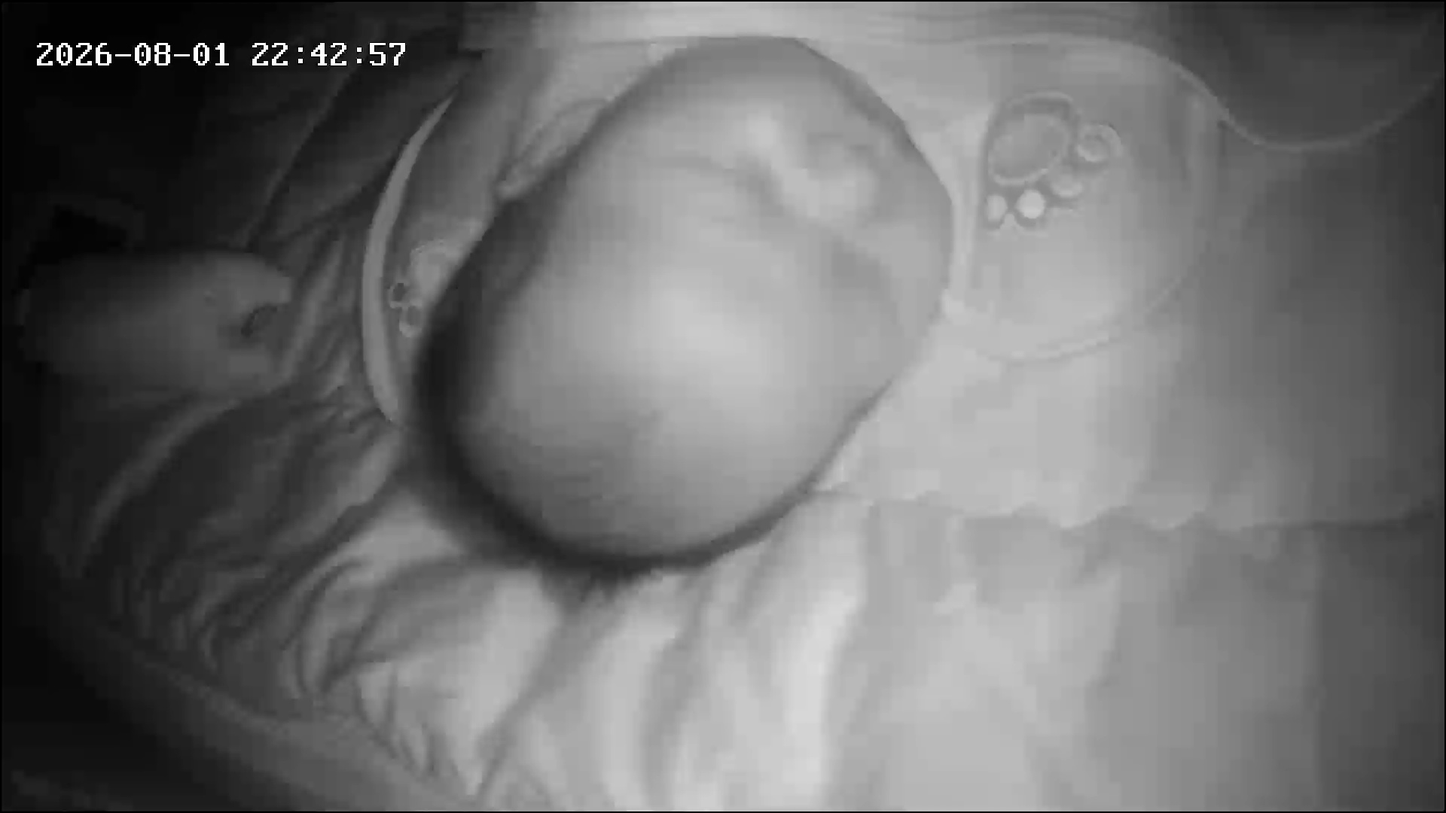baby: (209, 0, 1380, 593), (0, 0, 1047, 600)
baby_face: (430, 44, 970, 582)
